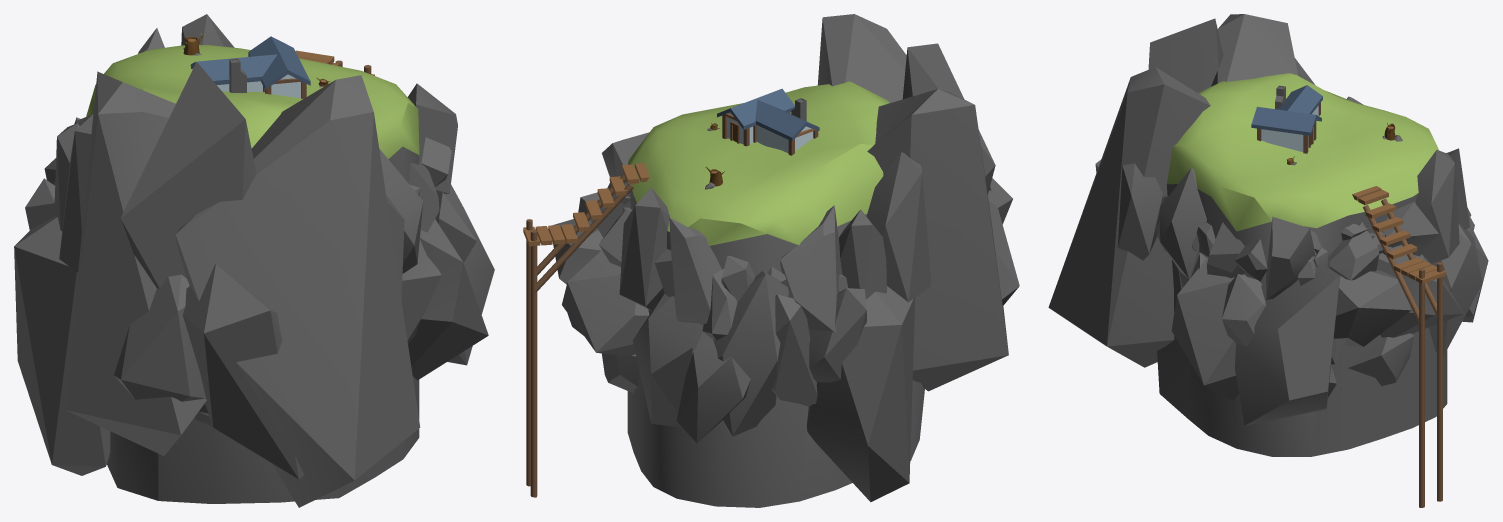
3 views of the same model, side by side, from view 1: azimuth 30°, elevation 25°; view 2: azimuth 150°, elevation 25°; view 3: azimuth 270°, elevation 25° (orthographic). The views are drawn at different scales.
Visible parts, largest first — view 1: Icosphere.014; view 2: Icosphere.014; view 3: Icosphere.014.
Part boxes in pixels (x1,y1,x2,y2): Icosphere.014: (14, 14, 494, 507); Icosphere.014: (523, 14, 1019, 507); Icosphere.014: (1048, 14, 1488, 507).
Bounding box in the file's own units: 5.71 × 5.63 × 6.
